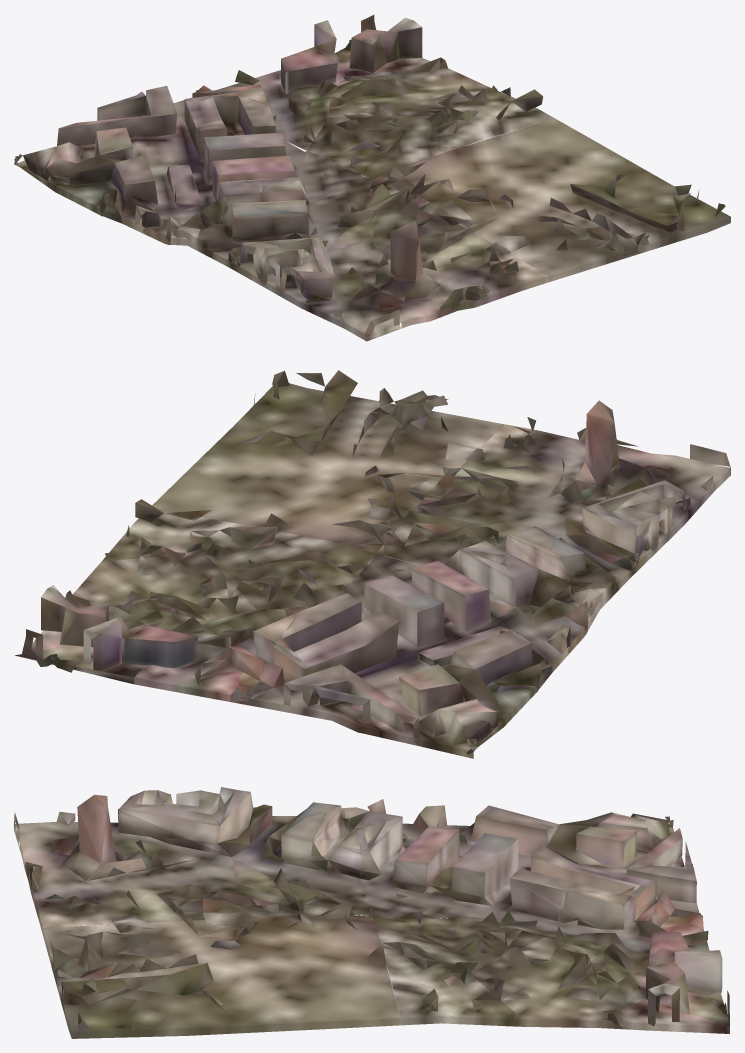
3 views of the same model, one above another, from view 1: azimuth 30°, elevation 25°; view 2: azimuth 150°, elevation 25°; view 3: azimuth 270°, elevation 25° (orthographic). The views are drawn at different scales.
Visible parts, largest first — view 1: Mesh_0; view 2: Mesh_0; view 3: Mesh_0.
Part boxes in pixels (<box>): Mesh_0: <box>14,15,730,341</box>; Mesh_0: <box>15,370,730,758</box>; Mesh_0: <box>14,787,729,1038</box>.
Bounding box in the file's own units: 533 × 119 × 660.
1 material, 1 textured.
